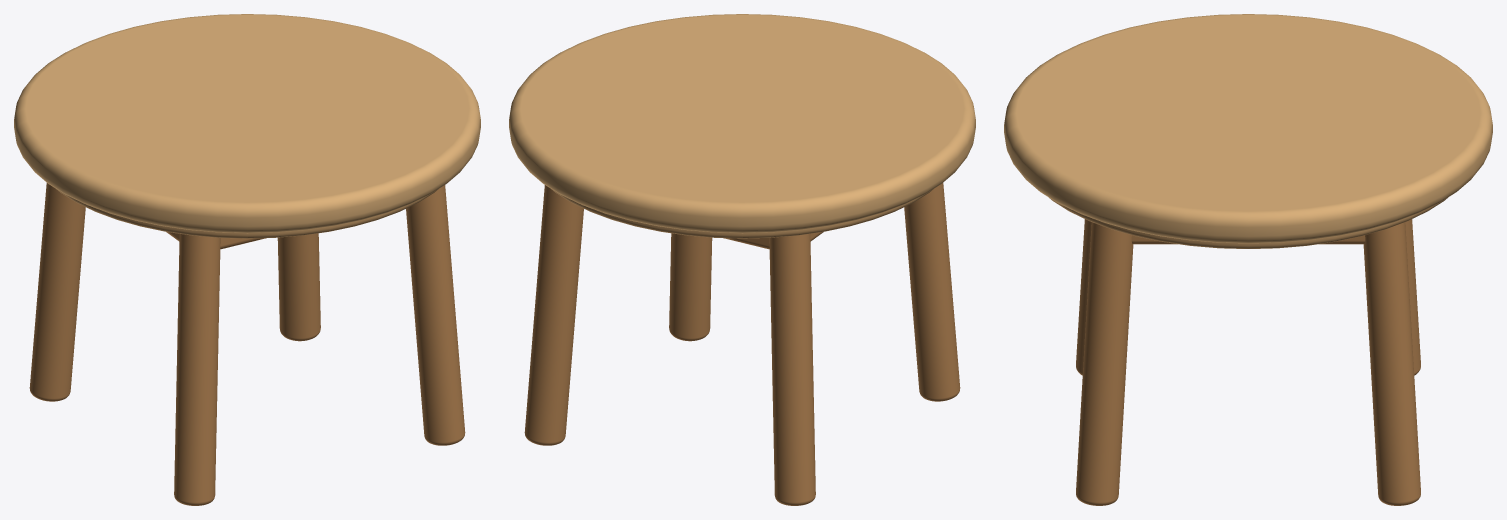
The model's file is table-round.glb.
The picture shows the model from 3 angles, left to right: view 1: azimuth 30°, elevation 25°; view 2: azimuth 150°, elevation 25°; view 3: azimuth 270°, elevation 25°; orthographic projection. The views are drawn at different scales.
Visible parts, largest first — view 1: table-round; view 2: table-round; view 3: table-round.
Boxes of the visible parts, x1,y1,x2,y2 form: table-round: (14, 14, 480, 505); table-round: (509, 14, 975, 505); table-round: (1004, 14, 1492, 505).
Bounding box in the file's own units: 1 × 0.7304 × 1.
